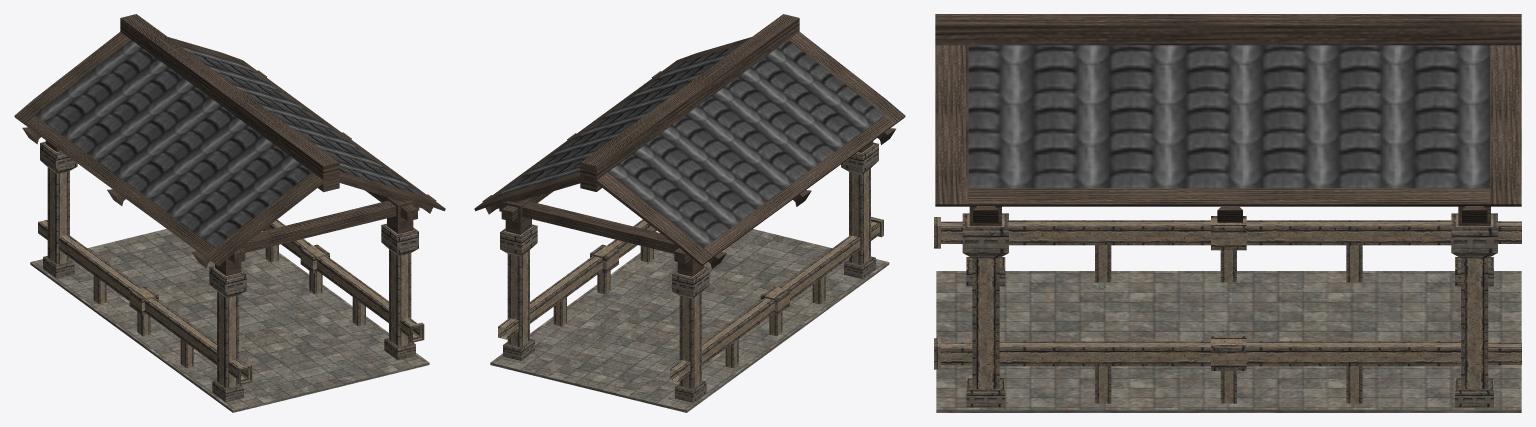
The model's file is corredorjpC.fbx.
3 renders of one model, left to right at view 1: azimuth 30°, elevation 25°; view 2: azimuth 150°, elevation 25°; view 3: azimuth 270°, elevation 25°, orthographic. The views are drawn at different scales.
Parts seen in each view (by area): view 1: Cube; view 2: Cube; view 3: Cube.
Part boxes in pixels (left/top/right/bottom): Cube: left=14, top=14, right=445, bottom=412; Cube: left=474, top=14, right=905, bottom=412; Cube: left=934, top=14, right=1521, bottom=412.
Bounding box in the file's own units: 3.36 × 3.05 × 5.02.
